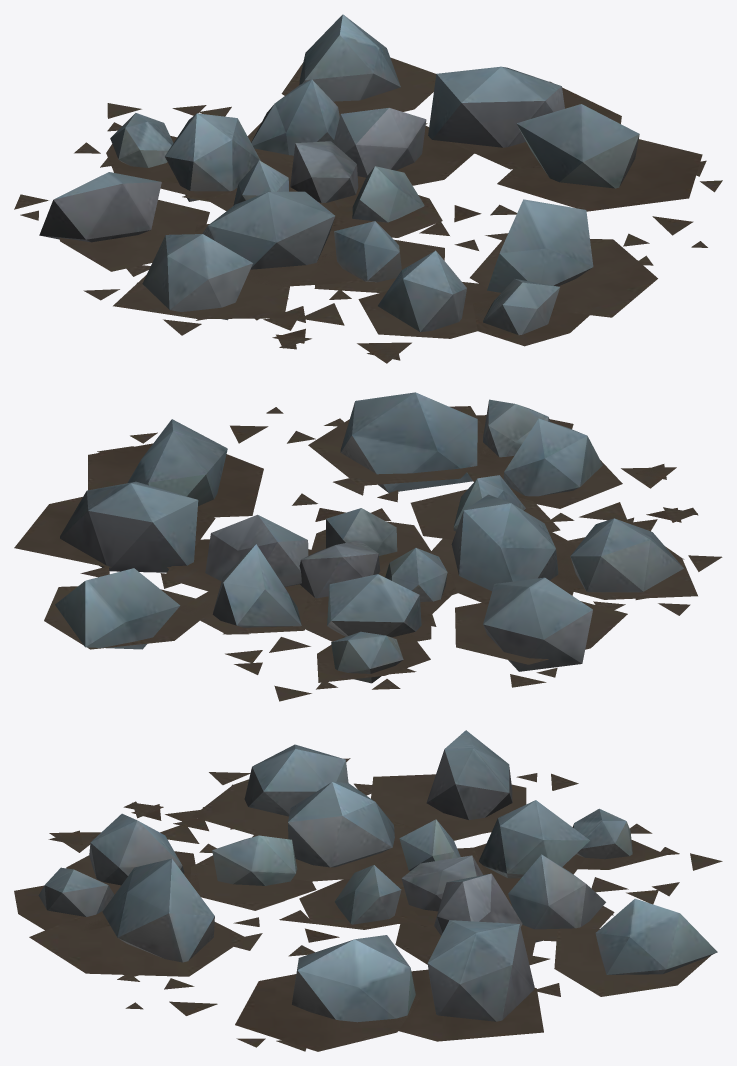
File: iron-ore-rich.glb
3 views of the same model, one above another, from view 1: azimuth 30°, elevation 25°; view 2: azimuth 150°, elevation 25°; view 3: azimuth 270°, elevation 25° (orthographic).
Visible parts, largest first — view 1: iron-ore-rich; view 2: iron-ore-rich; view 3: iron-ore-rich.
Boxes of the visible parts, bbox=[...] form: iron-ore-rich: bbox=[14, 14, 722, 363]; iron-ore-rich: bbox=[14, 392, 722, 701]; iron-ore-rich: bbox=[14, 730, 722, 1051].
Bounding box in the file's own units: 1.49 × 0.2042 × 1.52.
1 material, 1 textured.
